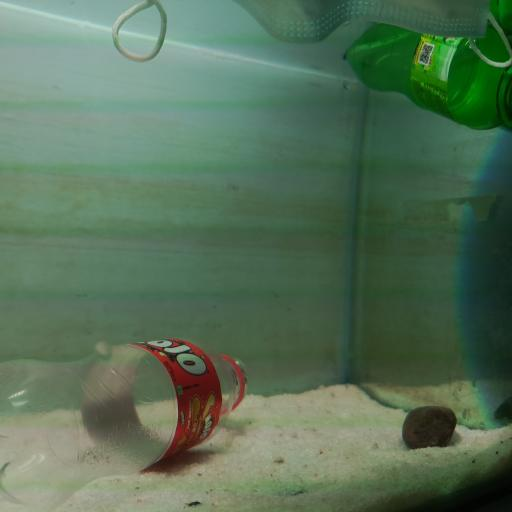mask: (111, 1, 512, 70)
plastic_bottle: (0, 337, 248, 510), (344, 24, 512, 128)
